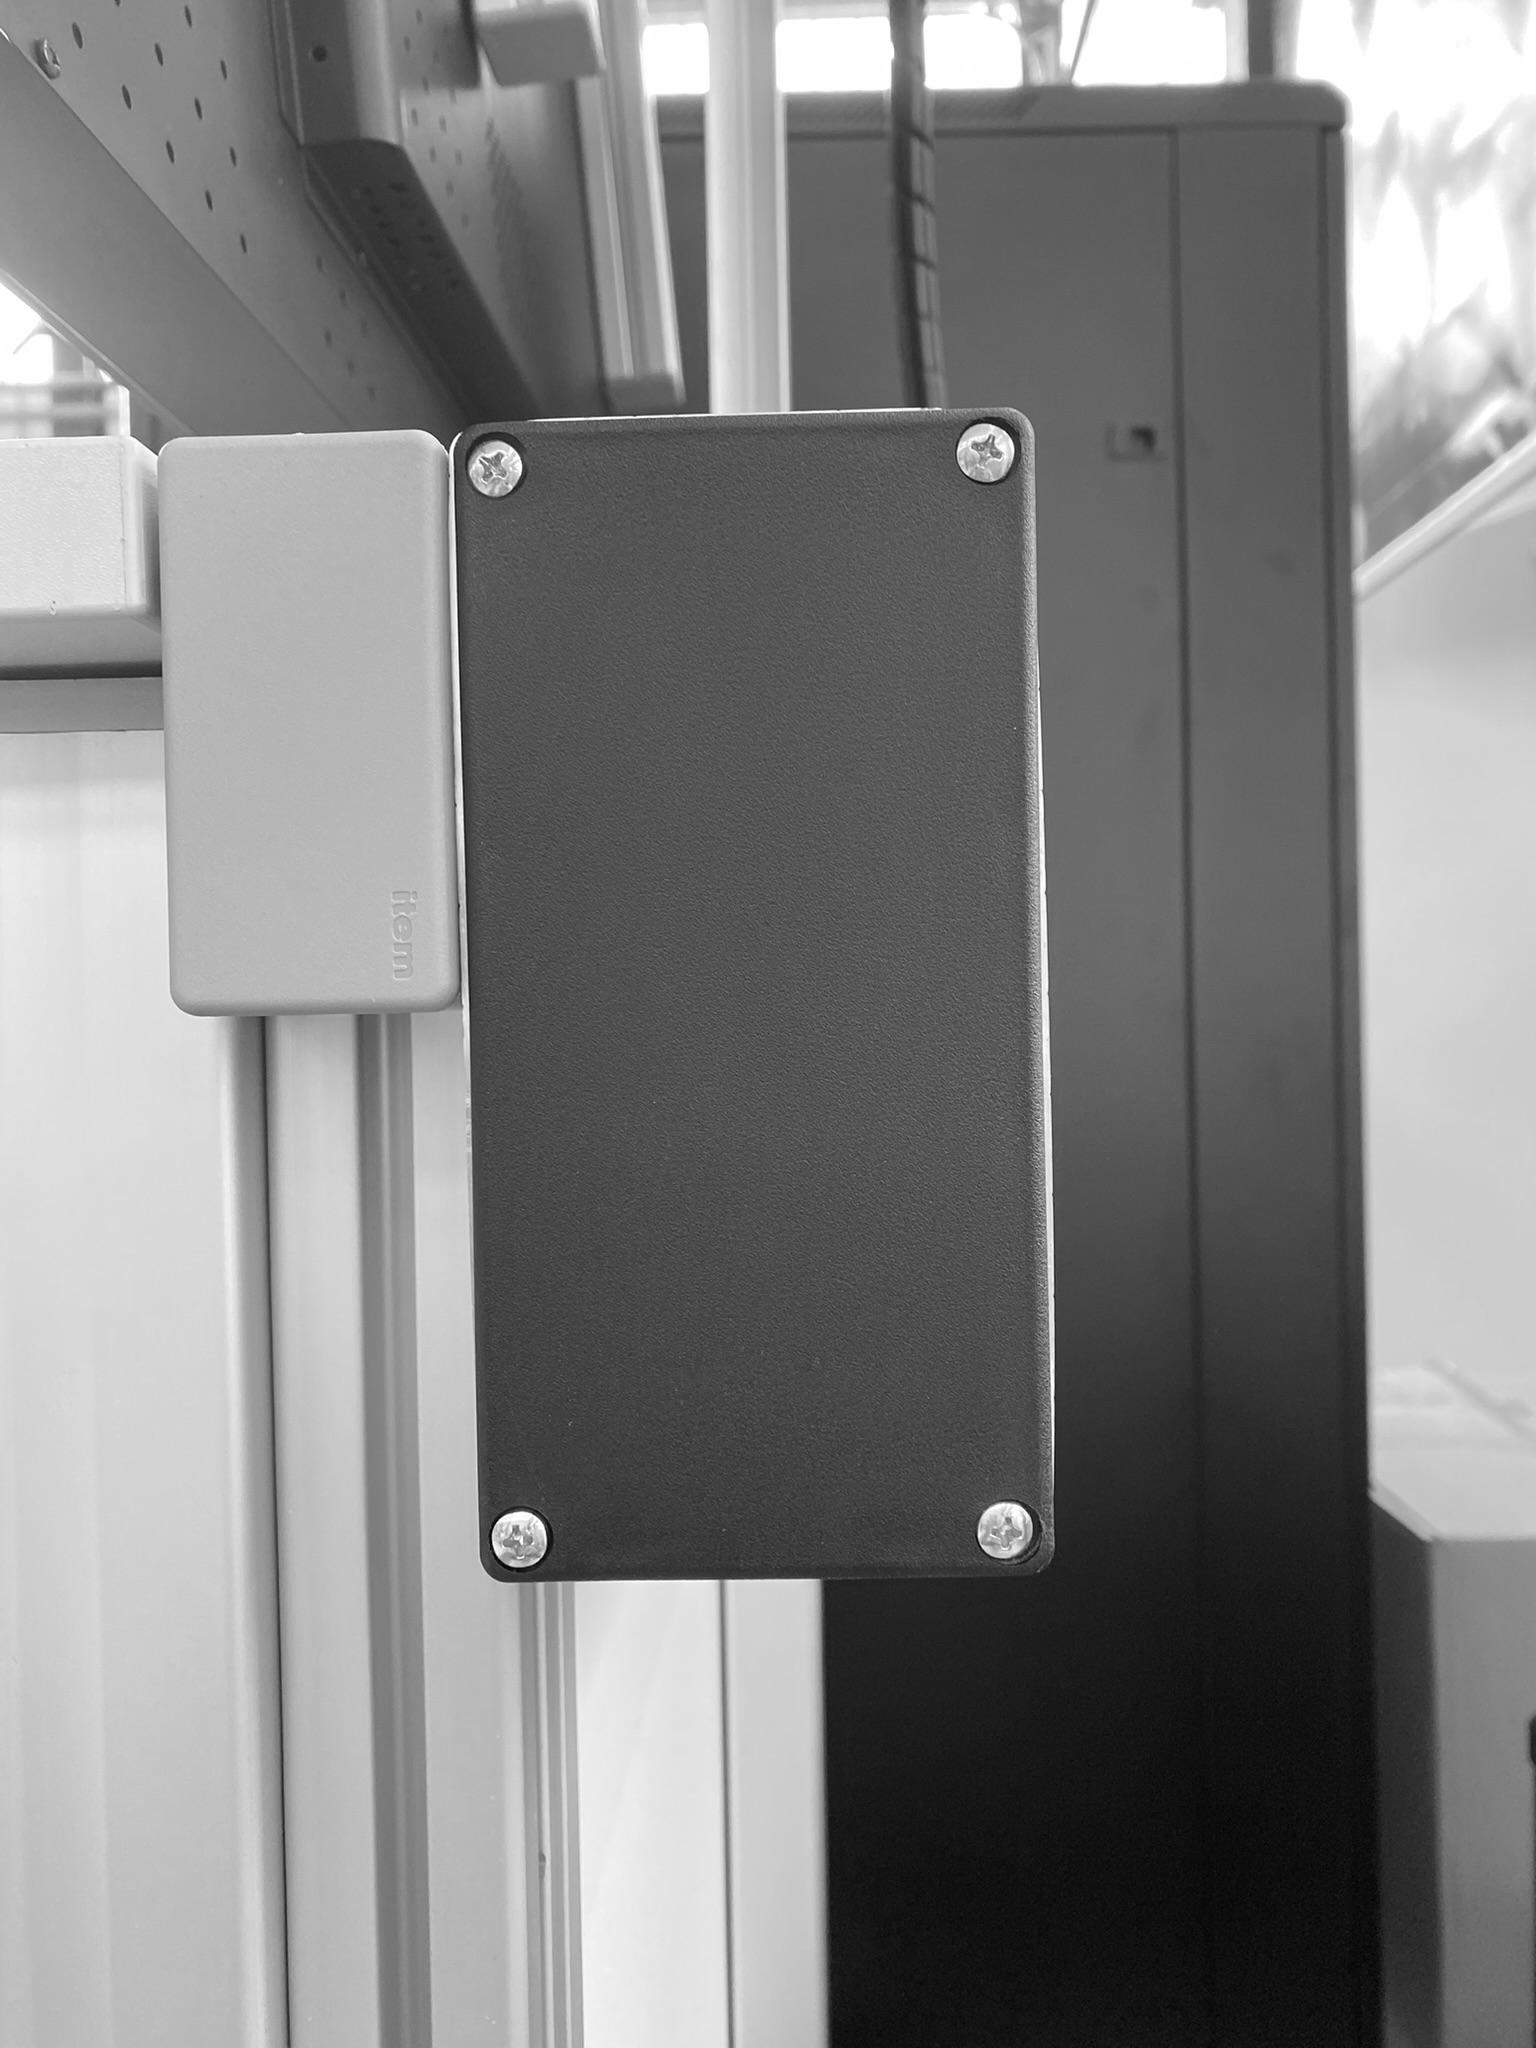philips-PZ: (487, 1509, 550, 1571), (976, 1500, 1037, 1559), (957, 424, 1016, 481), (468, 440, 524, 498)
